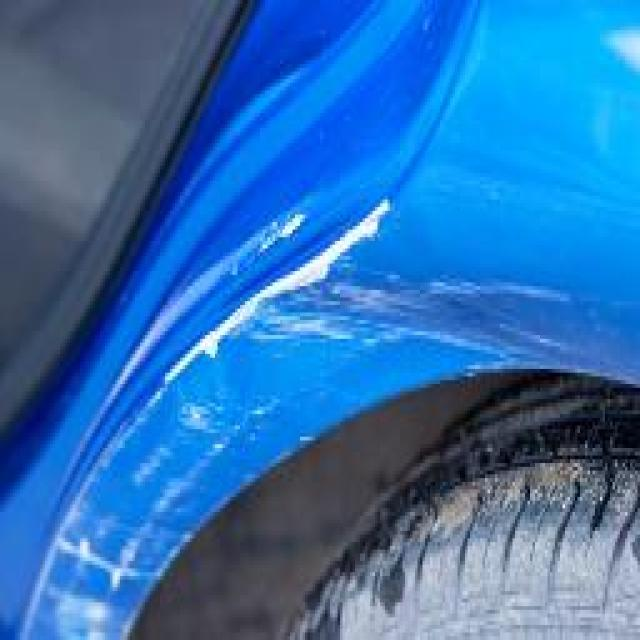Fender: (5, 177, 418, 640)
